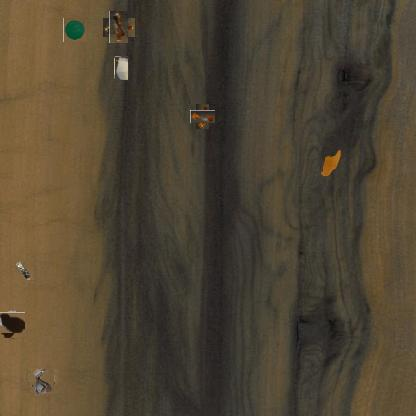dirty: (28, 367, 56, 395), (106, 15, 132, 40), (63, 19, 87, 42), (14, 260, 34, 280), (193, 107, 212, 126), (114, 56, 128, 80)
liquid: (0, 310, 23, 335), (320, 149, 340, 177)
